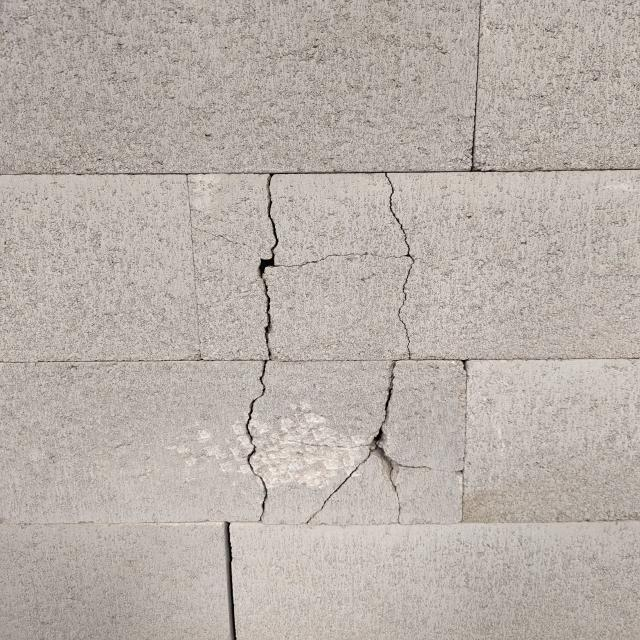crack: (233, 175, 435, 522)
spall: (167, 408, 358, 491)
